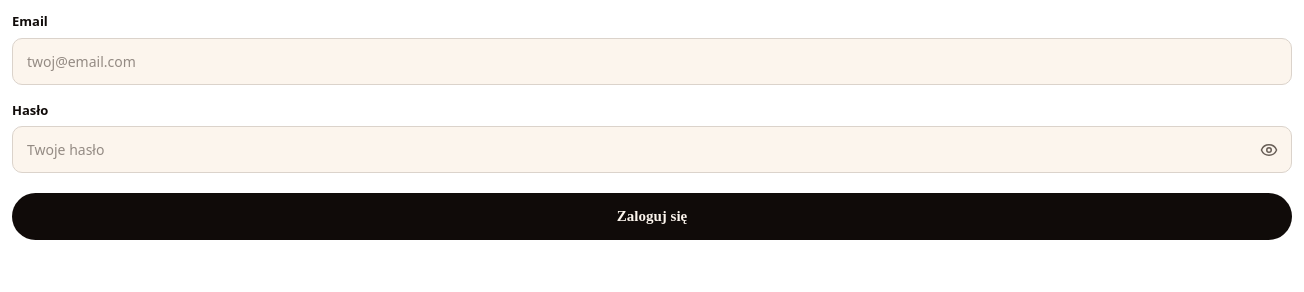
Scenario: LoginForm — dostarczanie odmowy serwera › NIE WYPUSZCZA wewnętrznej treści wyjątku przy zerwanym połączeniu
Type "ktos@example.com" into the field labelled "Email" at coordinates (652, 61), box [12,38,1292,84]
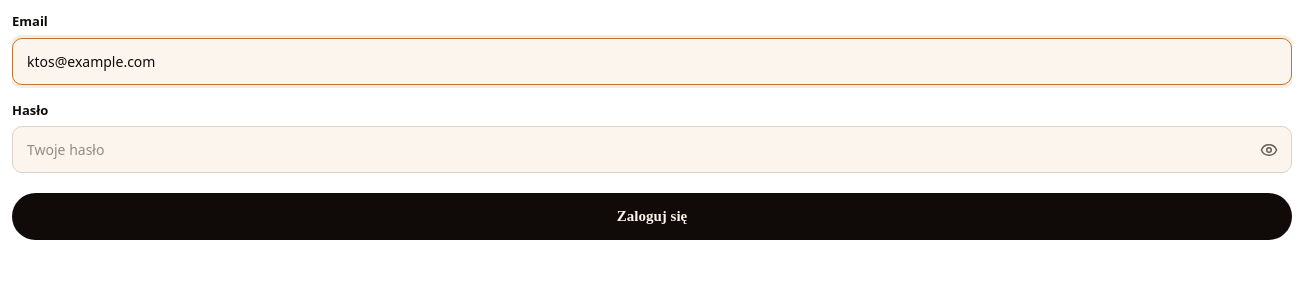
Type "tajne-haslo-123" into the password field labelled "Hasło" at coordinates (652, 150), box [12,126,1292,173]
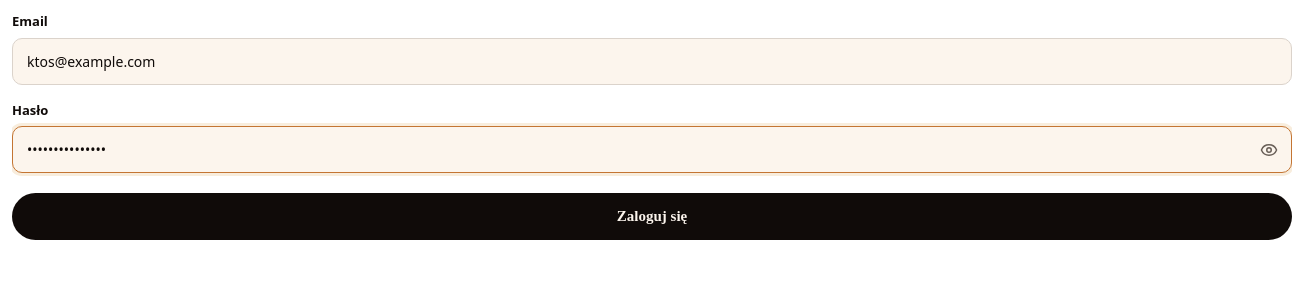
Click the button "Zaloguj się" at coordinates (652, 216), box [12,193,1292,240]
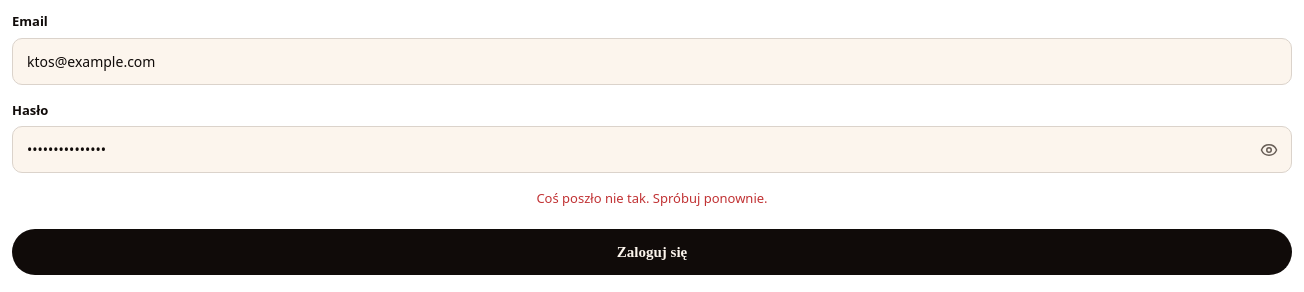
Expected: the text "Coś poszło nie tak. Spróbuj ponownie." is shown, [536,189,768,207]
